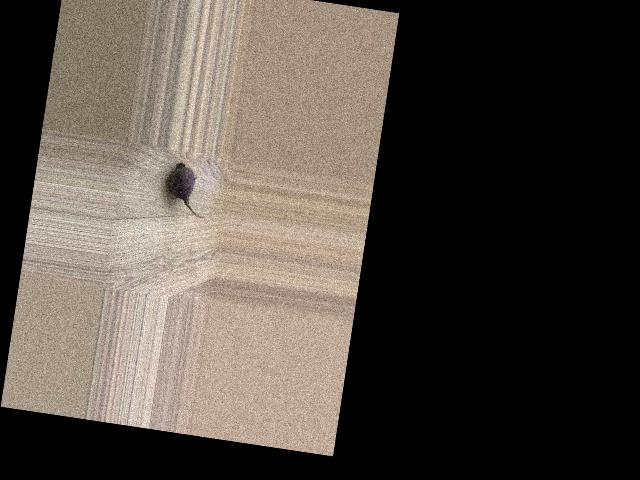beet: (165, 162, 211, 219)
